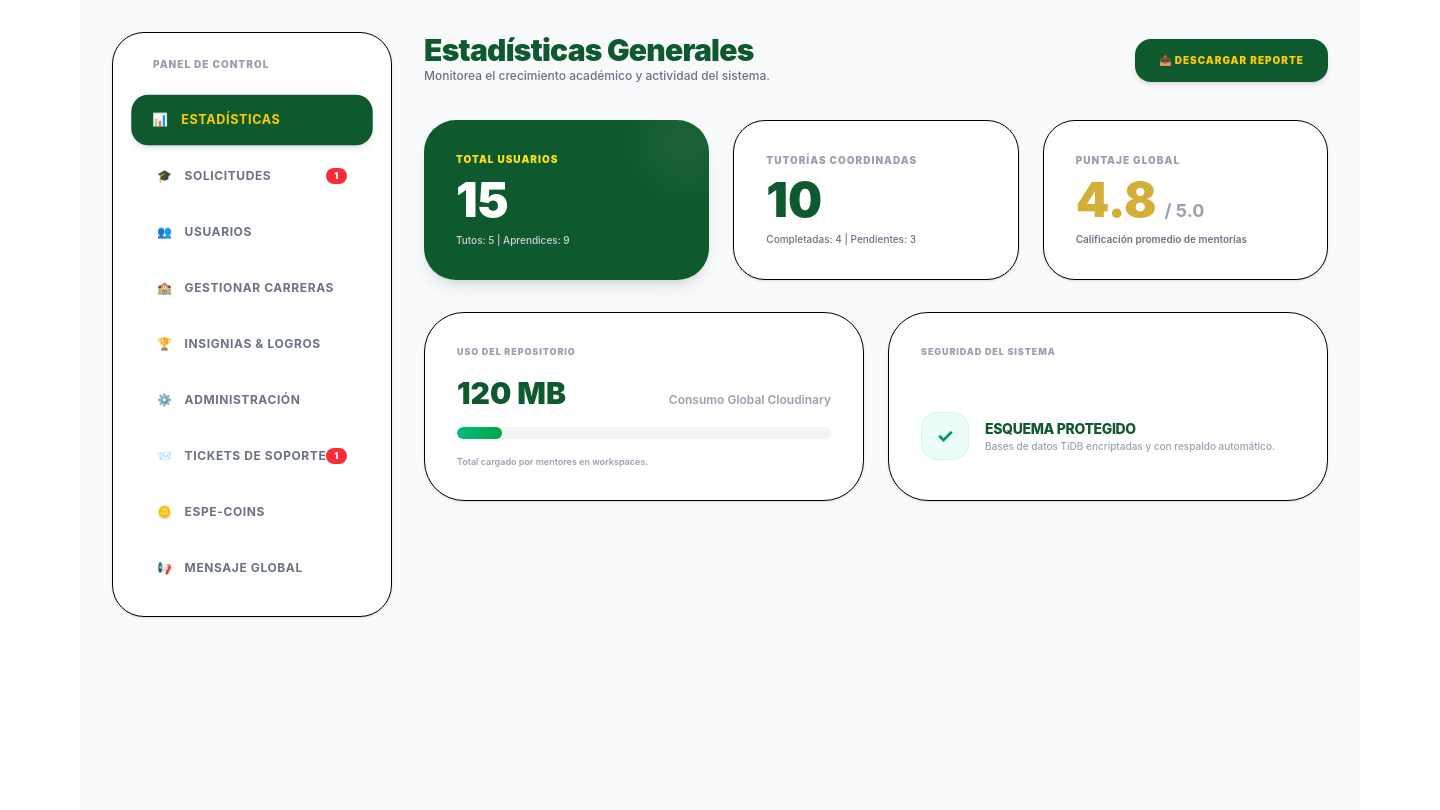
Test: AdminDashboard Page Tests › gestiona los ajustes del sistema
The width and height of the screenshot is (1440, 810).
Click the button "⚙️ Administración": {"x": 252, "y": 400} x1=137 y1=376 x2=367 y2=424
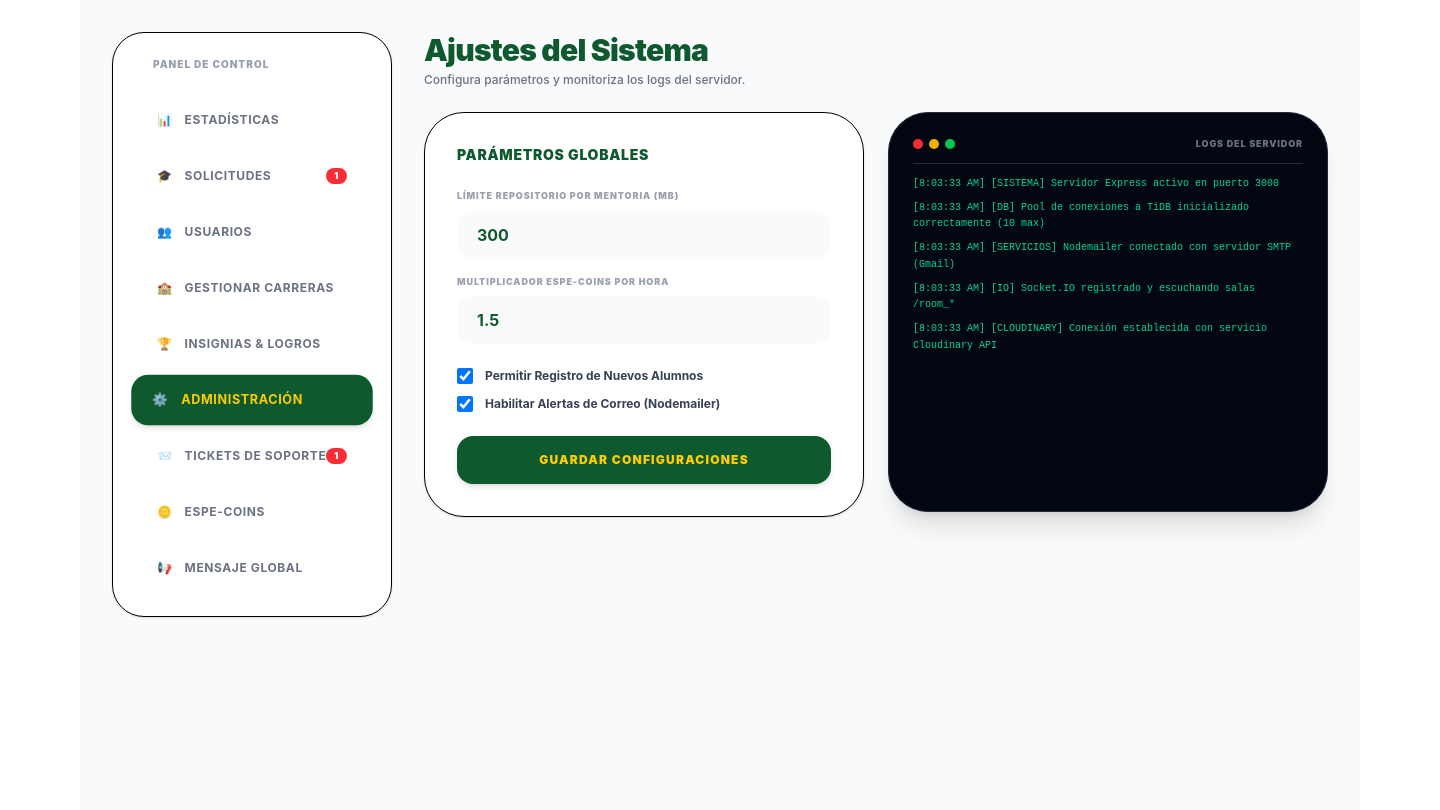
Check: the heading "Ajustes del Sistema" is shown, box x1=424 y1=32 x2=708 y2=68
Replace the text in the number field labelled "Límite repositorio por Mentoria (MB)" with "450": {"x": 644, "y": 234} x1=457 y1=210 x2=831 y2=258
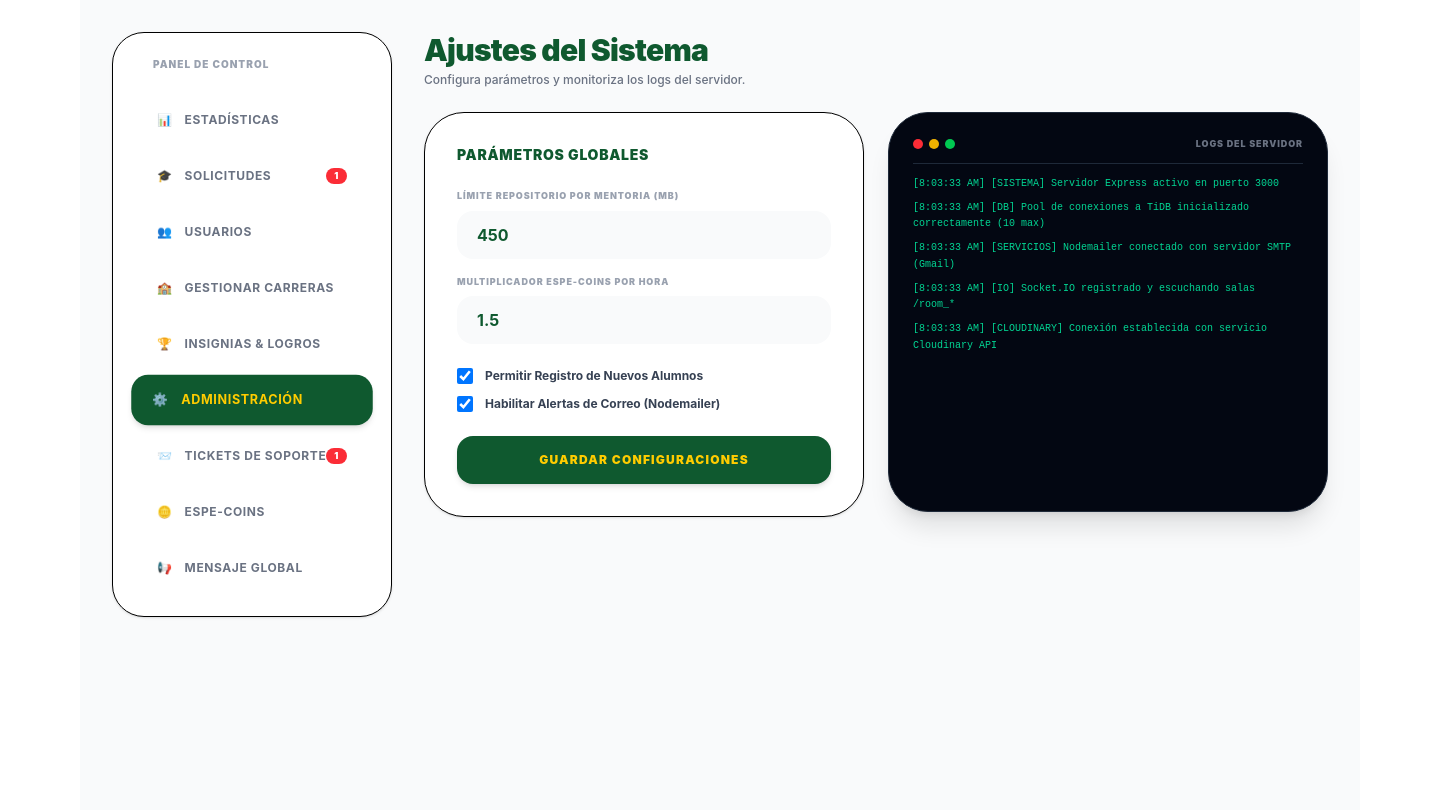
Replace the text in the number field labelled "Multiplicador ESPE-Coins por Hora" with "2.0": {"x": 644, "y": 320} x1=457 y1=296 x2=831 y2=344
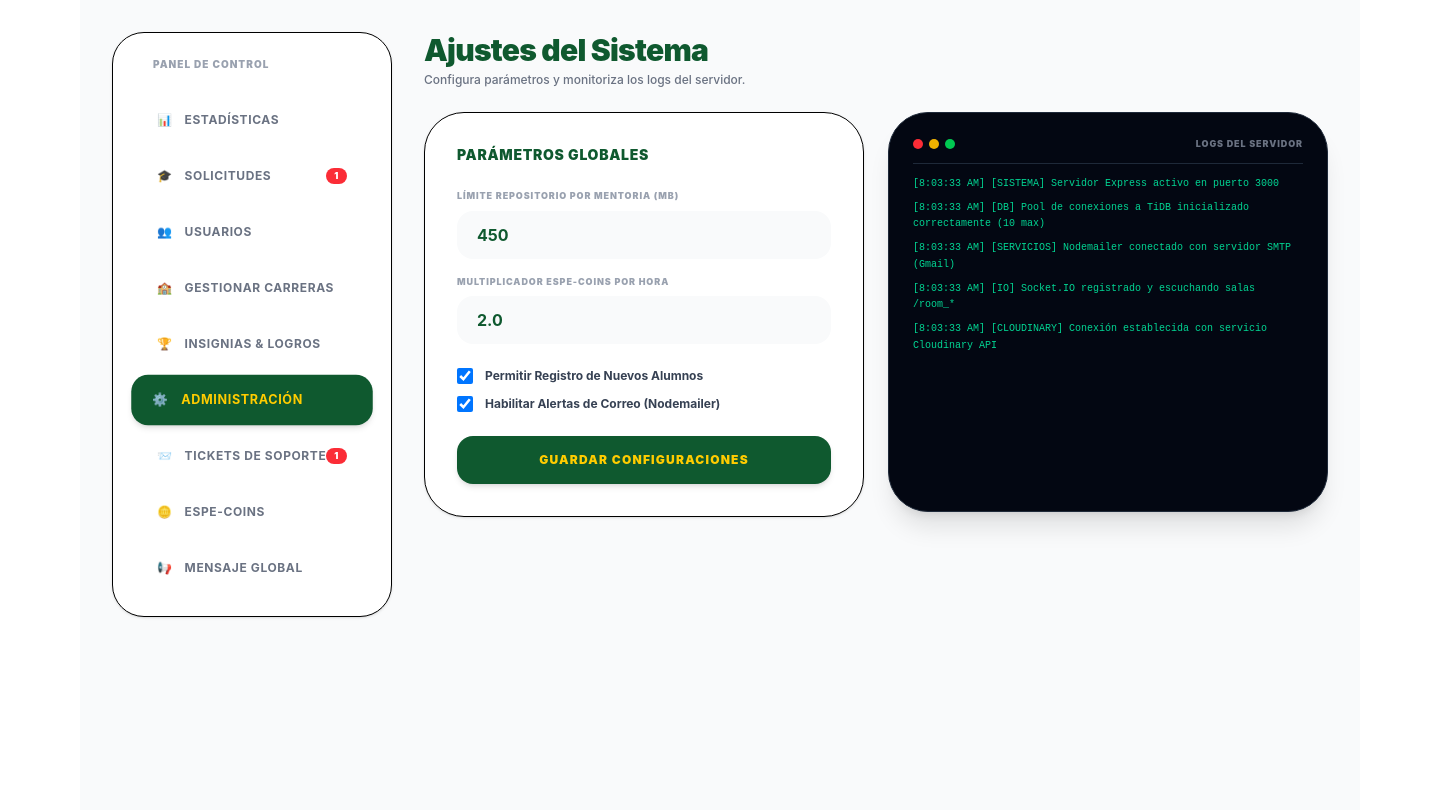
Click the checkbox labelled "Permitir Registro de Nuevos Alumnos": {"x": 465, "y": 376} x1=457 y1=368 x2=473 y2=384
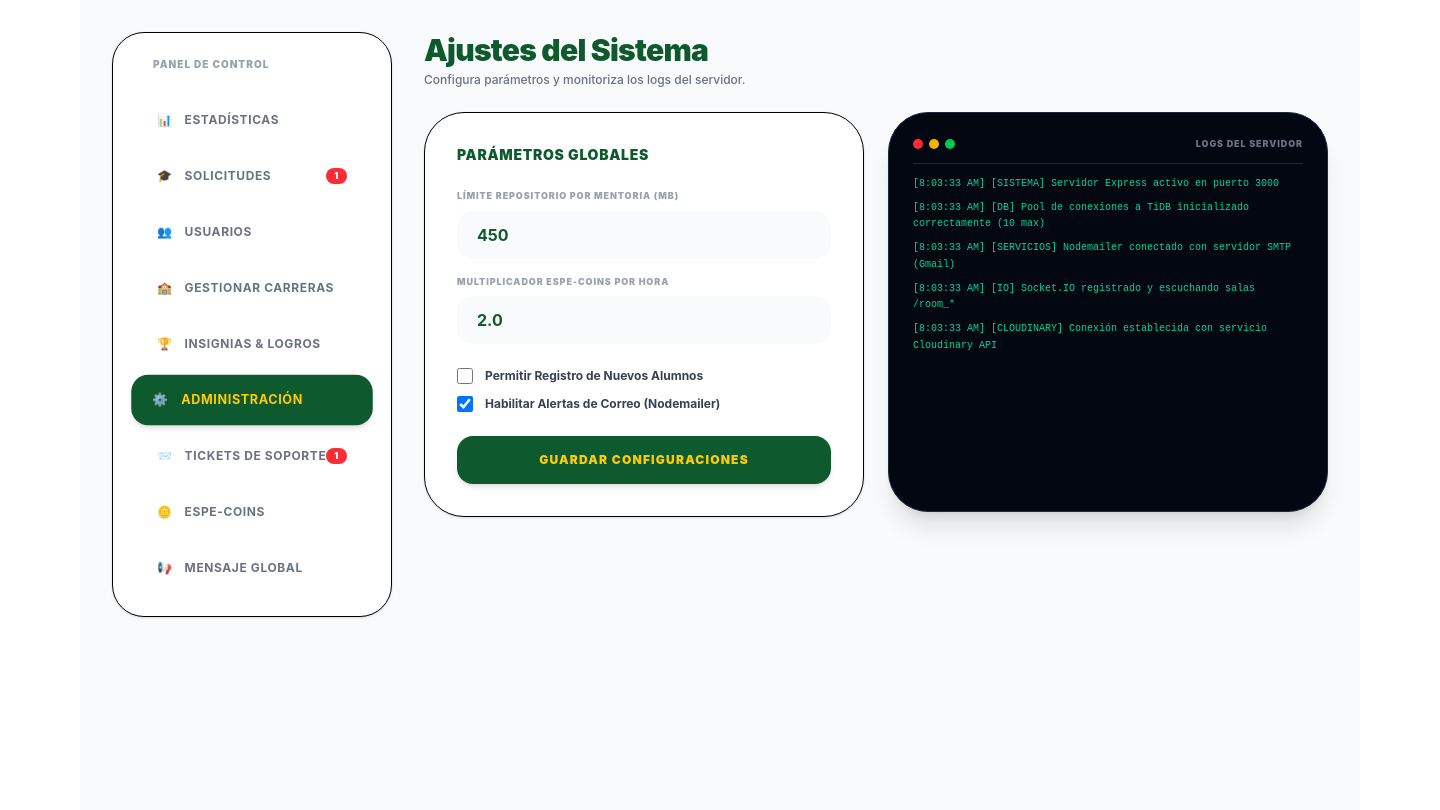
Click the checkbox labelled "Habilitar Alertas de Correo (Nodemailer)": {"x": 465, "y": 404} x1=457 y1=396 x2=473 y2=412
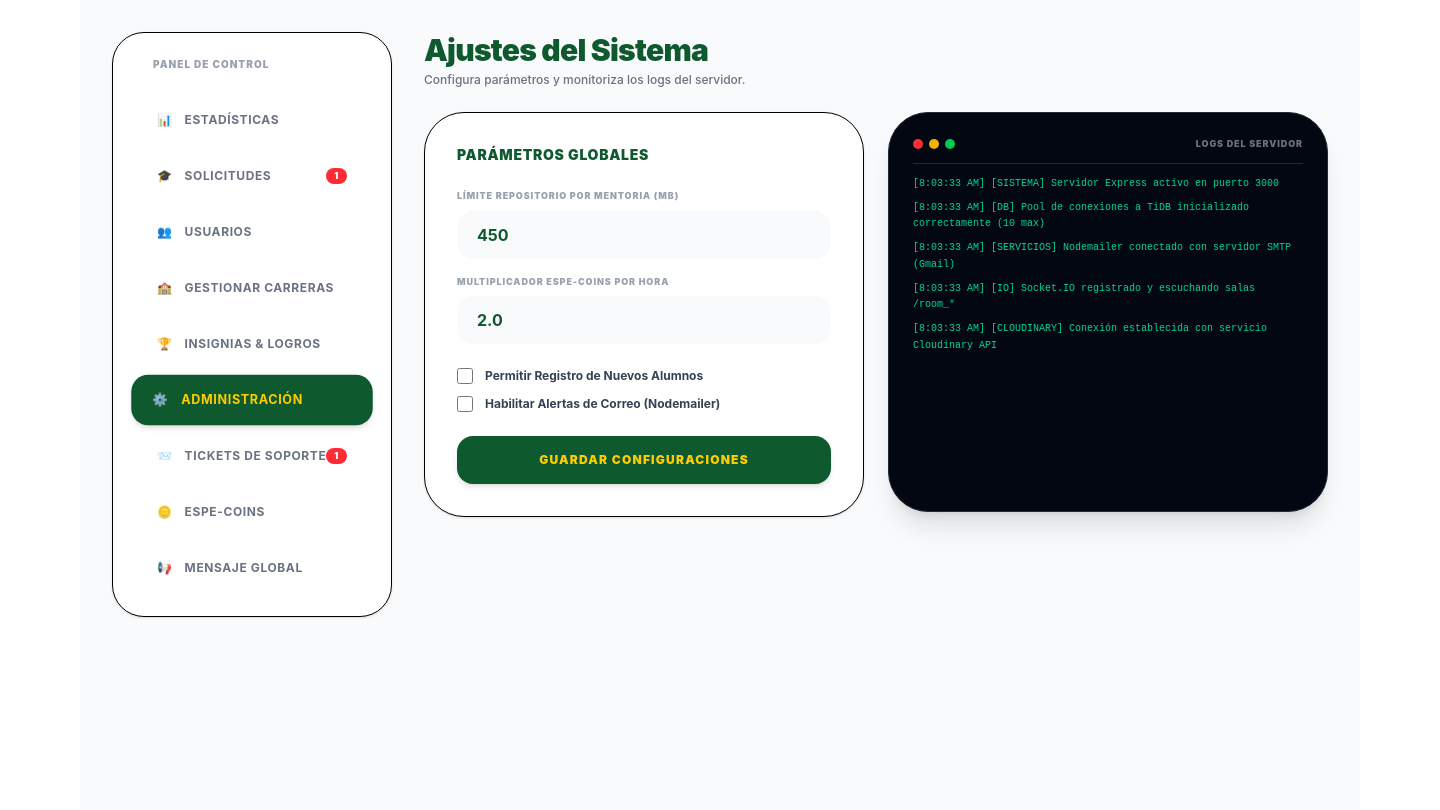
Click the button "Guardar Configuraciones": {"x": 644, "y": 460} x1=457 y1=436 x2=831 y2=484
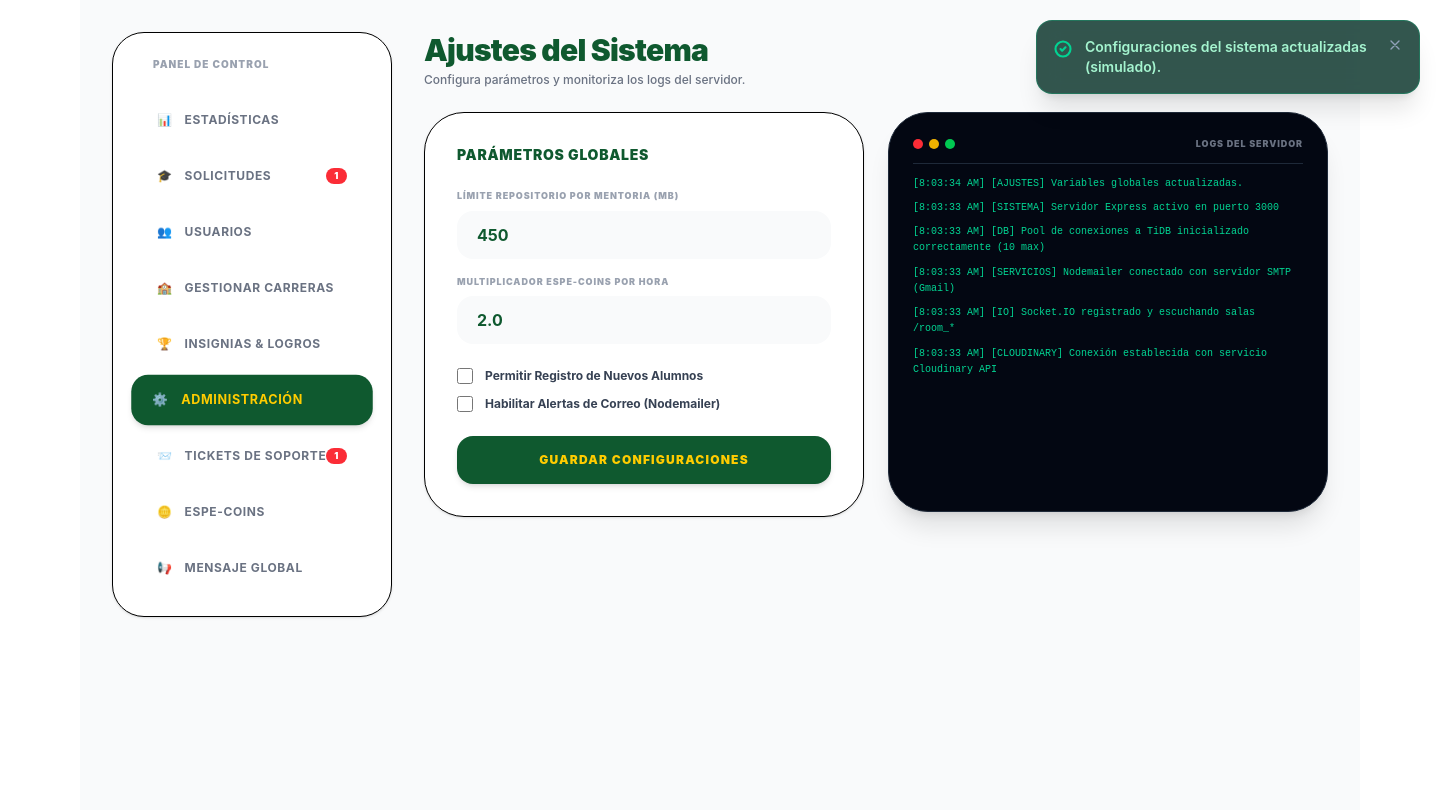
Check: the text "Configura parámetros y monitoriza los logs del servidor." is shown, box x1=424 y1=72 x2=745 y2=87
Check: the text "[8:03:34 AM] [AJUSTES] Variables globales actualizadas." is shown, box x1=913 y1=176 x2=1295 y2=192
